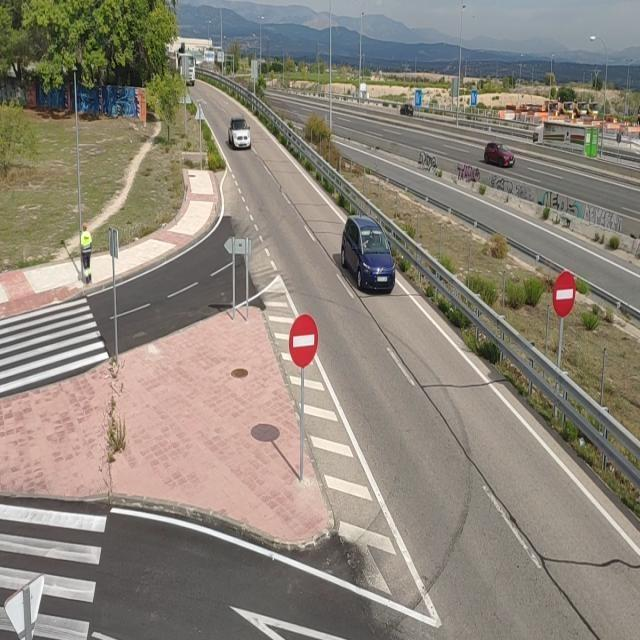Car: (340, 210, 398, 294), (482, 136, 522, 172), (229, 114, 255, 154)
